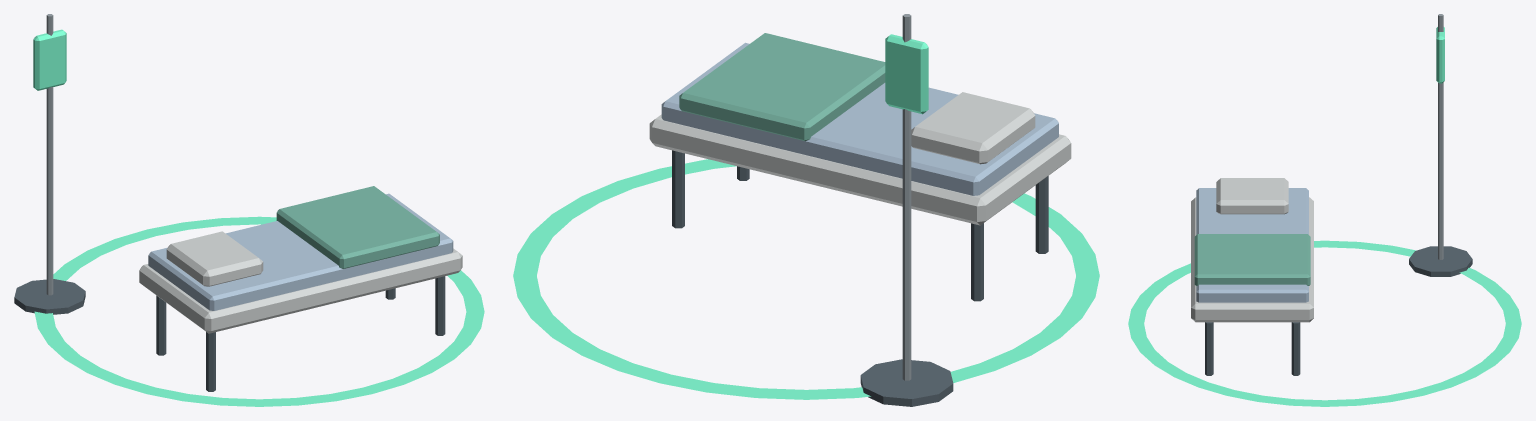
File: spring.fbx
3 views of the same model, side by side, from view 1: azimuth 30°, elevation 25°; view 2: azimuth 150°, elevation 25°; view 3: azimuth 270°, elevation 25° (orthographic). The views are drawn at different scales.
Visible parts, largest first — view 1: spring; view 2: spring; view 3: spring.
Part boxes in pixels (left/top/right/bottom): spring: left=14, top=14, right=484, bottom=406; spring: left=513, top=14, right=1099, bottom=406; spring: left=1128, top=14, right=1521, bottom=406.
Size of the model in its own units: 2.72 by 1.9 by 2.72.
